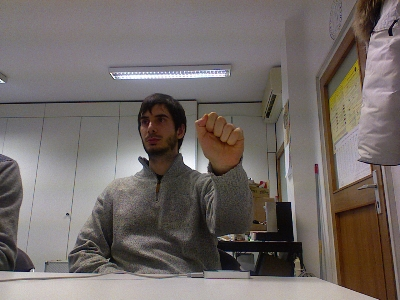石头: (193, 109, 245, 172)
